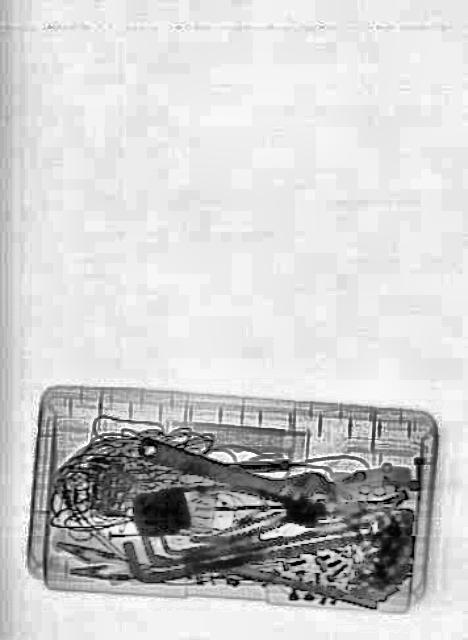Wrench: (132, 418, 338, 528)
